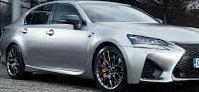Cars: (3, 2, 199, 92)
